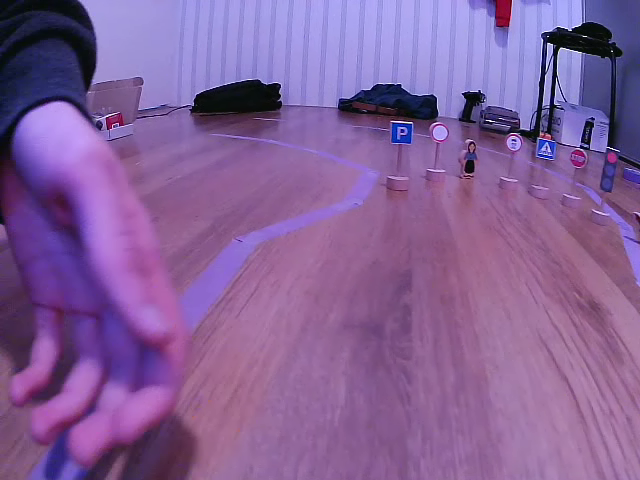fietspad: (505, 131, 523, 154)
mens: (459, 138, 479, 178)
parkeerbord: (388, 119, 415, 148)
roodlicht: (600, 146, 618, 195)
stopbord: (570, 148, 586, 169)
wegdicht: (430, 123, 449, 144)
zebrapad: (536, 137, 557, 161)
